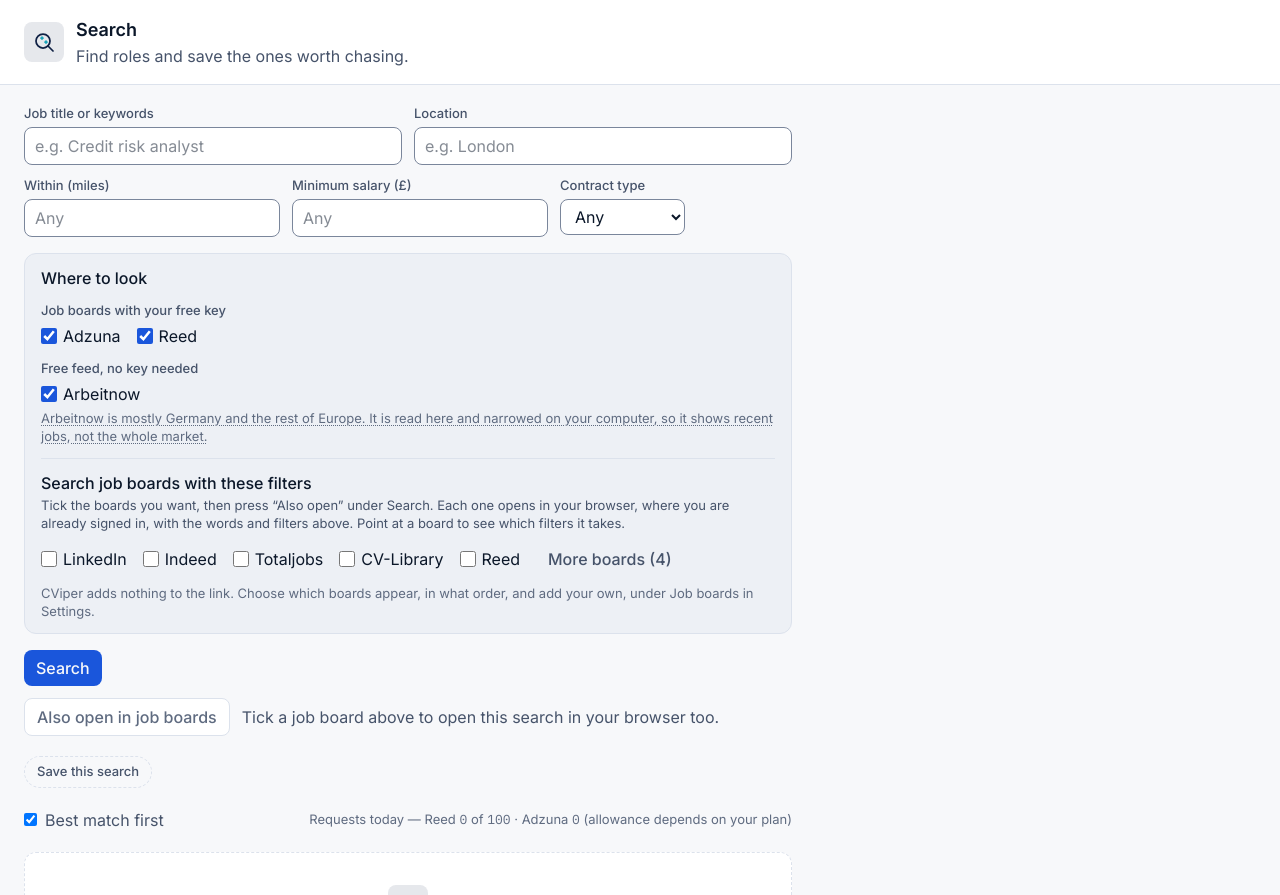
with a CV on file › puts a band on every advert that can be scored
Expected: the checkbox with test id "search-sort-best" is shown, [24,813,37,826]
Type "credit risk analyst" into the field with test id "search-keywords" at x=213, y=146, box [24,127,402,165]
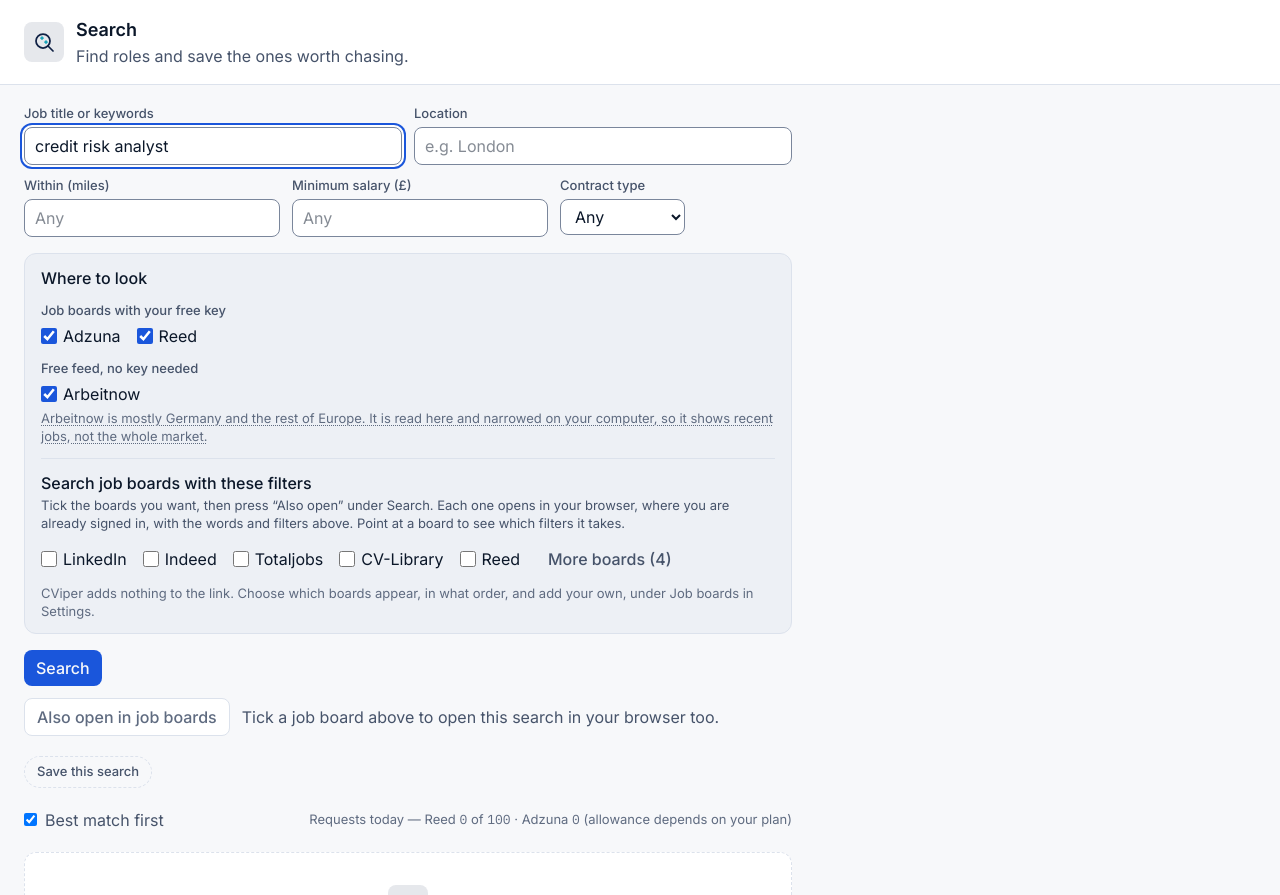
Click the button with test id "search-submit" at x=63, y=668, box [24,650,102,686]
(page scrolled)
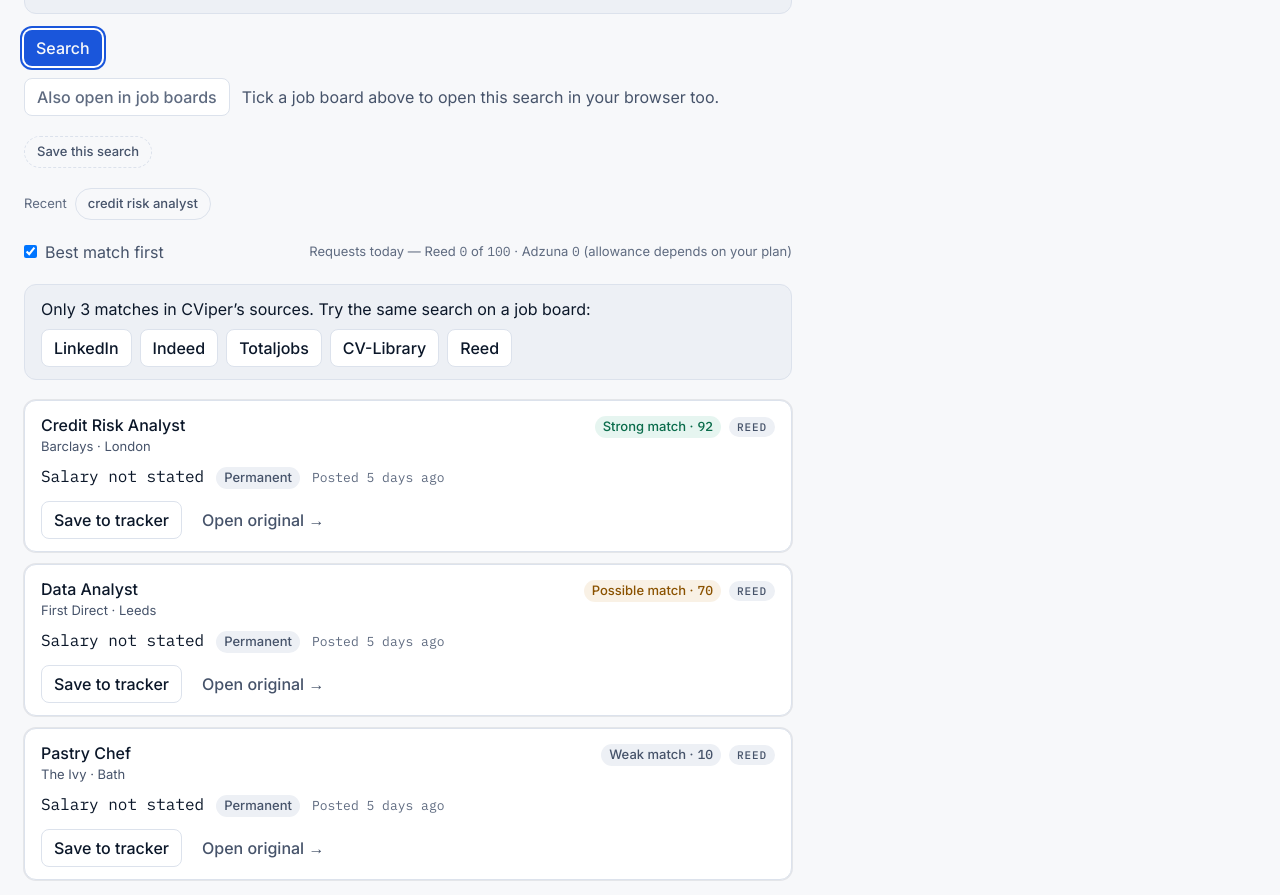
Result: the element with test id "result-rank-job-credit" reads "Strong match · 92" at [595,416,721,438]
Result: the element with test id "result-rank-job-data" reads "Possible match · 70" at [584,580,721,602]
Result: the element with test id "result-rank-job-pastry" reads "Weak match · 10" at [601,744,721,766]
